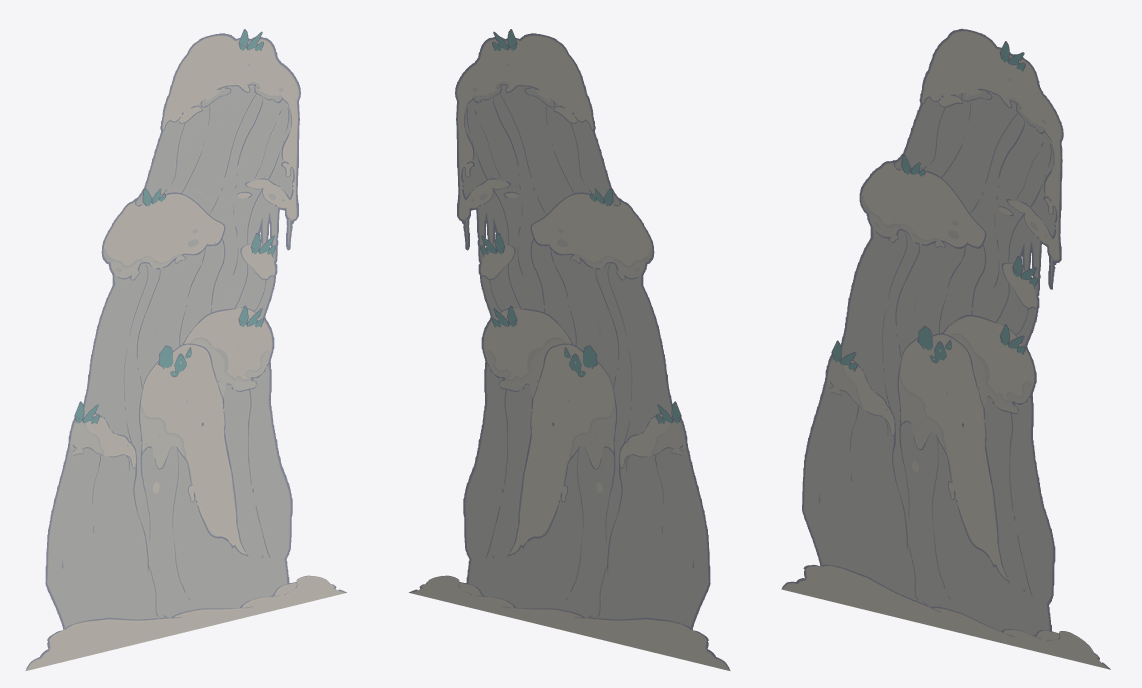
File: Mesh_Adventure_SnowMountain_Rock_04.fbx
3 views of the same model, side by side, from view 1: azimuth 30°, elevation 25°; view 2: azimuth 150°, elevation 25°; view 3: azimuth 330°, elevation 25° (orthographic). The views are drawn at different scales.
Visible parts, largest first — view 1: Mesh_Adventure_SnowMountain_Rock_04; view 2: Mesh_Adventure_SnowMountain_Rock_04; view 3: Mesh_Adventure_SnowMountain_Rock_04.
Boxes of the visible parts, <box> form: Mesh_Adventure_SnowMountain_Rock_04: <box>25,29,346,670</box>; Mesh_Adventure_SnowMountain_Rock_04: <box>409,29,730,670</box>; Mesh_Adventure_SnowMountain_Rock_04: <box>781,28,1110,669</box>.
Size of the model in its own units: 61.3 by 100 by 4.37e-06.
Materials: 1 (1 with a texture image).
